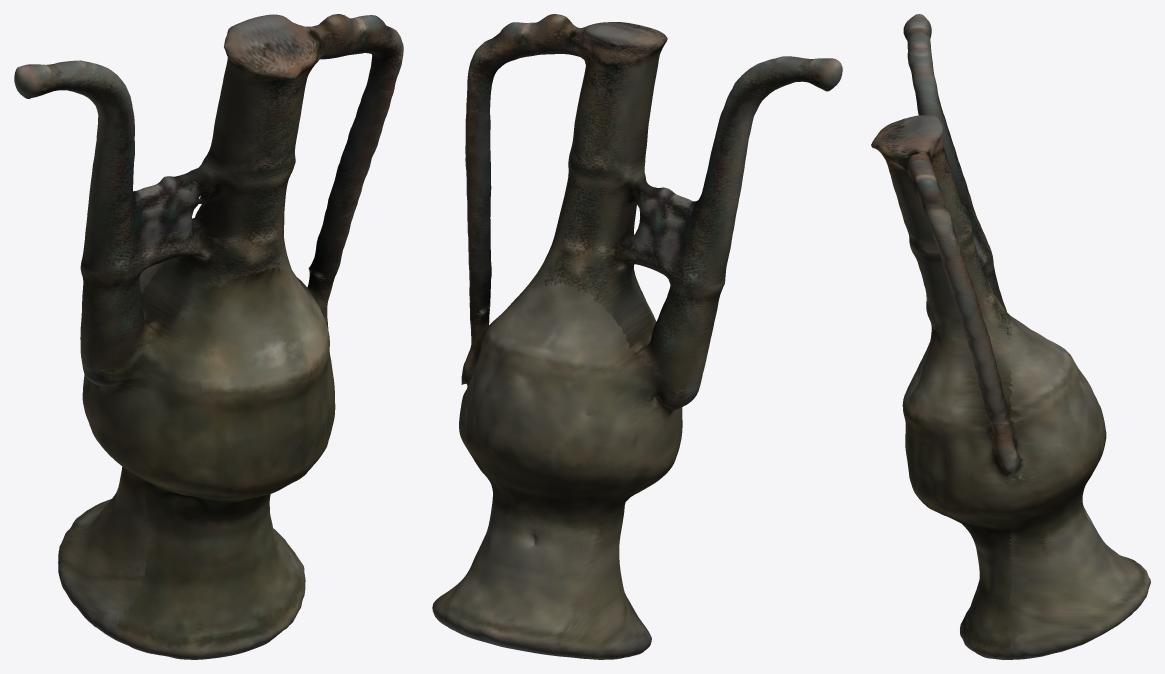
File: kfl-2246.glb
3 renders of one model, left to right at view 1: azimuth 30°, elevation 25°; view 2: azimuth 150°, elevation 25°; view 3: azimuth 270°, elevation 25°, orthographic. The views are drawn at different scales.
Parts seen in each view (by area): view 1: geometry_0; view 2: geometry_0; view 3: geometry_0.
Boxes of the visible parts, bbox=[...] form: geometry_0: bbox=[14, 14, 403, 659]; geometry_0: bbox=[432, 14, 842, 659]; geometry_0: bbox=[871, 14, 1150, 659].
Size of the model in its own units: 0.6212 by 0.9927 by 0.4743.
1 material, 1 textured.
